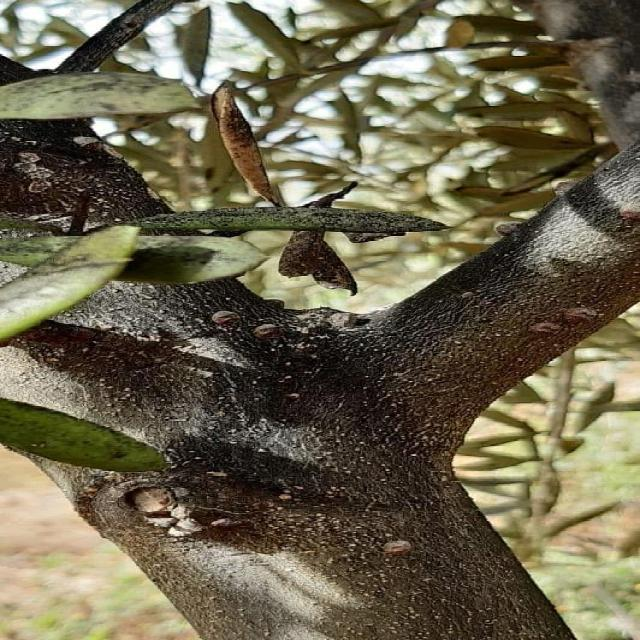Black Scale: (531, 307, 597, 337), (326, 310, 369, 329), (212, 311, 247, 327), (253, 324, 284, 341), (494, 222, 525, 239), (381, 540, 413, 556)
